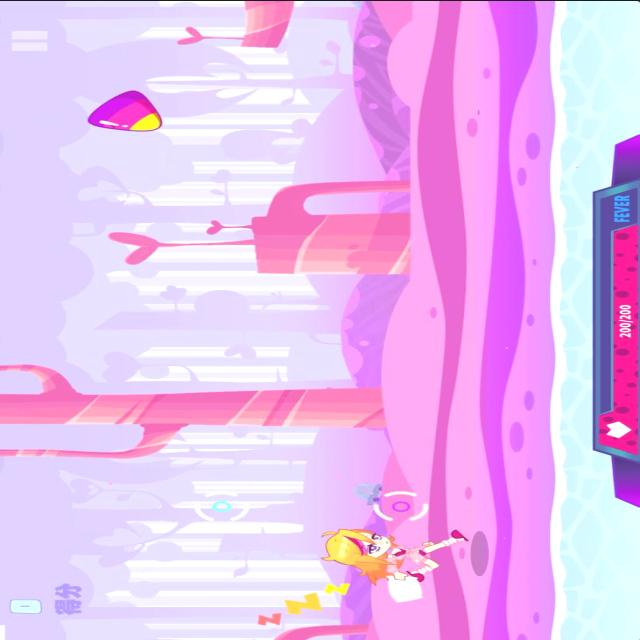jian: (81, 86, 166, 134)
